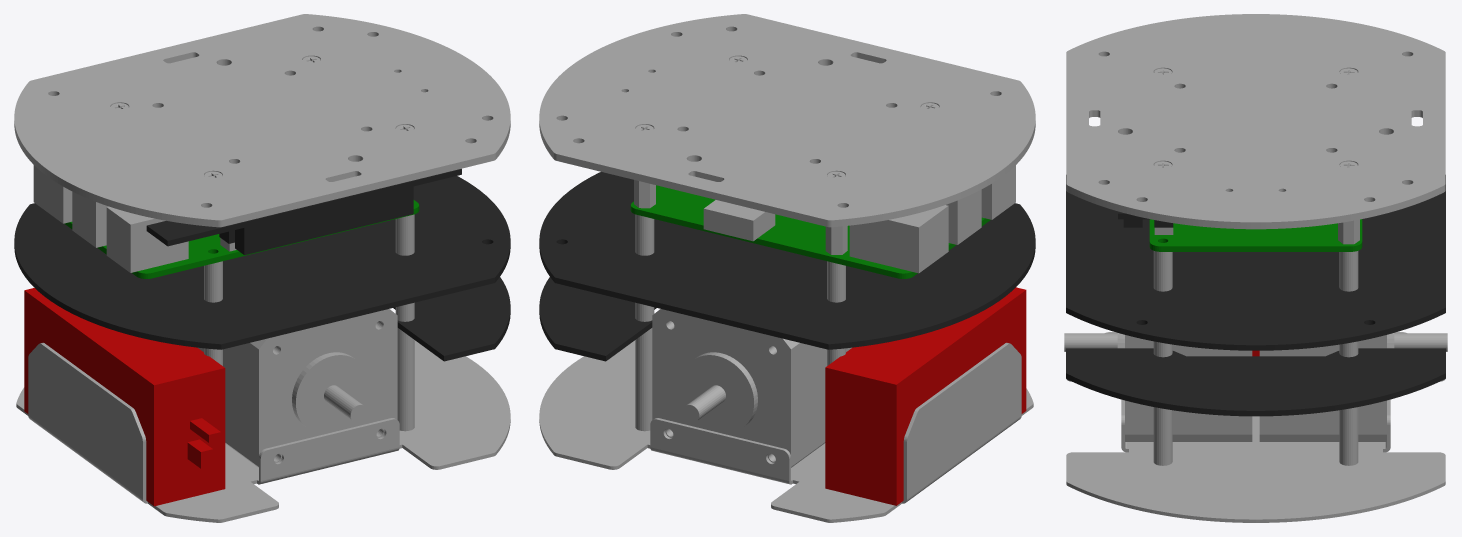
File: RasPiMouse_body-TopPlate.dae
3 renders of one model, left to right at view 1: azimuth 30°, elevation 25°; view 2: azimuth 150°, elevation 25°; view 3: azimuth 270°, elevation 25°, orthographic.
Visible parts, largest first — view 1: RasPiMouse_TopPlate, RasPiMouse_body_gray, RasPiMouse_base_black, RasPiMouse_body_red, RasPiMouse_body_green; view 2: RasPiMouse_TopPlate, RasPiMouse_body_gray, RasPiMouse_base_black, RasPiMouse_body_red, RasPiMouse_body_green; view 3: RasPiMouse_TopPlate, RasPiMouse_base_black, RasPiMouse_body_gray, RasPiMouse_body_green.
Boxes of the visible parts, x1,y1,x2,y2 form: RasPiMouse_TopPlate: (14, 14, 510, 227); RasPiMouse_body_gray: (16, 165, 510, 522); RasPiMouse_base_black: (14, 168, 510, 361); RasPiMouse_body_red: (24, 288, 225, 506); RasPiMouse_body_green: (64, 200, 419, 278); RasPiMouse_TopPlate: (539, 14, 1035, 254); RasPiMouse_body_gray: (539, 165, 1033, 522); RasPiMouse_base_black: (539, 172, 1035, 361); RasPiMouse_body_red: (825, 287, 1026, 505); RasPiMouse_body_green: (630, 185, 990, 278); RasPiMouse_TopPlate: (1066, 14, 1445, 244); RasPiMouse_base_black: (1066, 175, 1445, 416); RasPiMouse_body_gray: (1064, 227, 1447, 522); RasPiMouse_body_green: (1149, 219, 1362, 251).
Bounding box in the file's own units: 0.13 × 0.101 × 0.0874.
